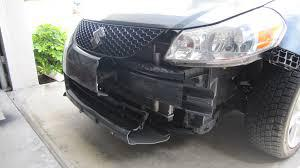front-bumper-dent: (71, 50, 254, 140)
